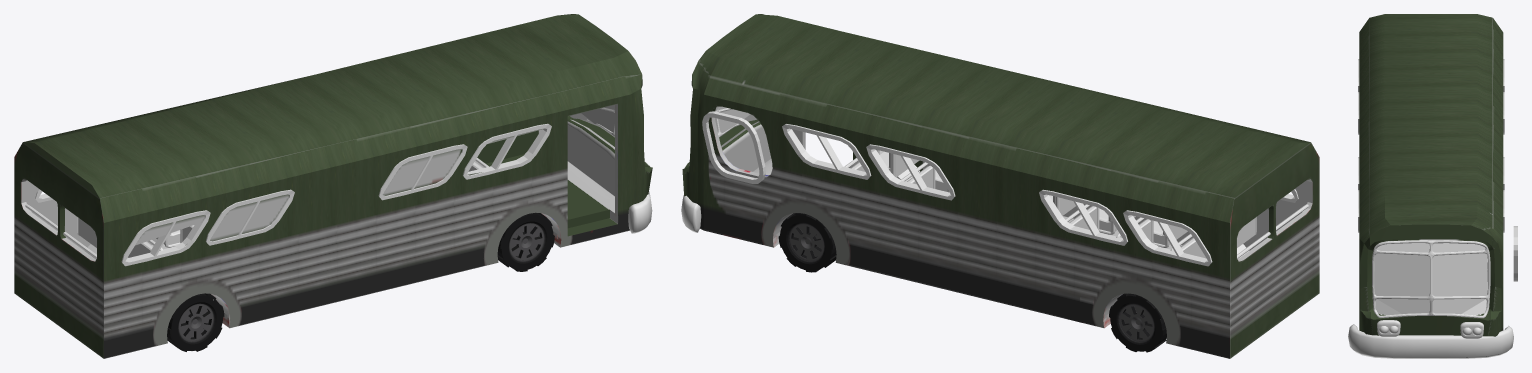
The model's file is Snowbus V6.fbx.
3 views of the same model, side by side, from view 1: azimuth 30°, elevation 25°; view 2: azimuth 150°, elevation 25°; view 3: azimuth 270°, elevation 25° (orthographic). The views are drawn at different scales.
Visible parts, largest first — view 1: Cube.018, Cylinder, Cube.002, Cube.004, Cube.020, Cube.022, Cube.021, Cube.023, Cube.019, Plane.002; view 2: Cube.018, Cylinder, Cube.002, Cube.027, Cube.026, Cube.024, Cube.025, Cube, Cube.019; view 3: Cube.018, Plane.001, Cube.019, Plane, Sphere, Sphere.001, Cube.
Boxes of the visible parts, x1,y1,x2,y2 form: Cube.018: [14, 14, 652, 358]; Cylinder: [167, 212, 554, 351]; Cube.002: [26, 125, 614, 250]; Cube.004: [152, 154, 614, 249]; Cube.020: [463, 123, 551, 179]; Cube.022: [121, 210, 210, 266]; Cube.021: [378, 144, 467, 200]; Cube.023: [206, 189, 294, 245]; Cube.019: [628, 191, 652, 233]; Plane.002: [570, 105, 614, 131]; Cube.018: [682, 14, 1319, 358]; Cylinder: [778, 213, 1166, 352]; Cube.002: [725, 127, 1307, 250]; Cube.027: [782, 124, 871, 179]; Cube.026: [866, 144, 955, 200]; Cube.024: [1039, 189, 1127, 245]; Cube.025: [1123, 210, 1212, 266]; Cube: [702, 111, 765, 183]; Cube.019: [681, 195, 701, 232]; Cube.018: [1359, 14, 1503, 336]; Plane.001: [1374, 240, 1487, 315]; Cube.019: [1348, 324, 1513, 358]; Plane: [1372, 240, 1490, 318]; Sphere: [1377, 320, 1400, 336]; Sphere.001: [1460, 322, 1483, 338]; Cube: [1513, 226, 1517, 281].
Size of the model in its own units: 1039 by 318 by 339.
